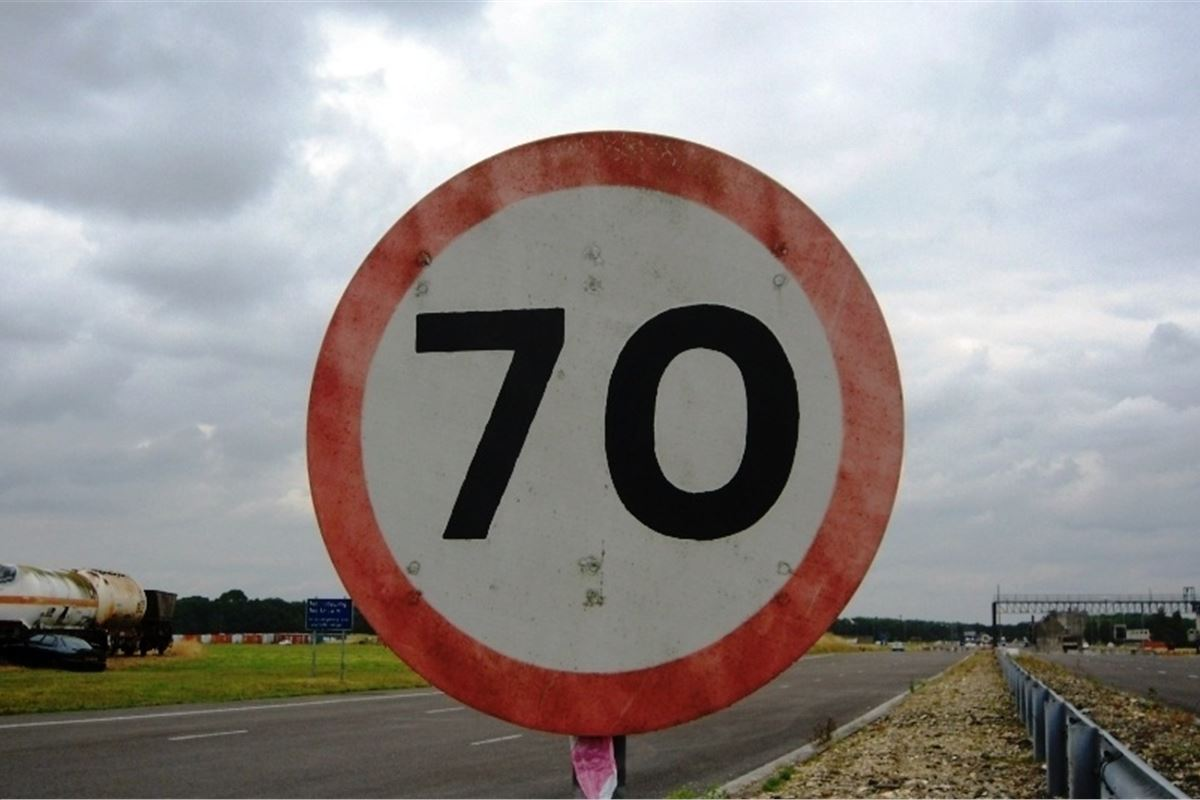Speed_limit_70km: (297, 127, 905, 735)
